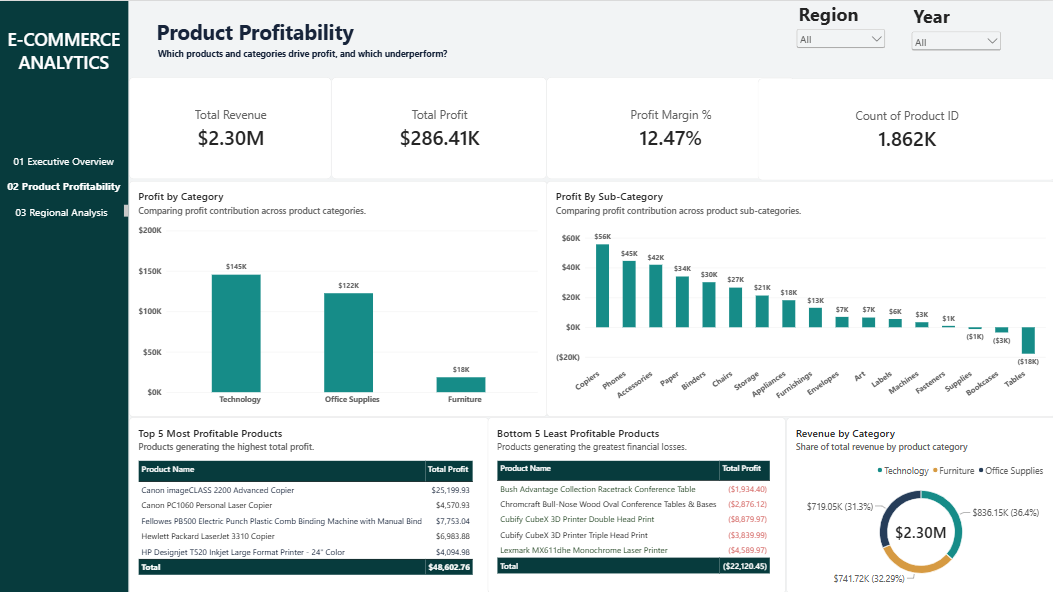

The dashboard page shown, as its layout file describes it:
{"tool":"powerbi","page":{"name":"Page 2","canvas":[1920,1080],"ordinal":1},"visuals":[{"type":"textbox","box":[0,0,235,1079.2],"z":0},{"type":"textbox","box":[0,47.9,235.4,114.6],"z":1000},{"type":"textbox","box":[0,277.1,235.4,31.2],"z":2000},{"type":"textbox","box":[0,322.9,235.4,31.2],"z":3000},{"type":"textbox","box":[0,370.8,235.4,22.9],"z":4000},{"type":"textbox","box":[266.7,16.7,1089.6,66.7],"z":5000},{"type":"textbox","box":[289.6,83.3,706.2,22.9],"z":6000},{"type":"slicer","fields":{"Values":["DateTable.Year"]},"box":[1654,4,172,106.2],"z":7000},{"type":"cardVisual","fields":{"Data":["Orders.Total Revenue"]},"box":[235.4,137.5,368.8,185.4],"z":9000},{"type":"cardVisual","fields":{"Data":["Orders.Total Profit"]},"box":[604.2,139.6,391.7,185.4],"z":10000},{"type":"cardVisual","fields":{"Data":["Orders.Profit Margin %"]},"box":[995.8,139.6,450,185.4],"z":11000},{"type":"cardVisual","fields":{"Data":["Count(Orders.Product ID)"]},"box":[1379.2,141.7,541.7,185.4],"z":12000},{"type":"columnChart","title":"Profit by Category","fields":{"Category":["Orders.Category"],"Y":["Orders.Total Profit"]},"box":[235.4,327.1,760.4,429.2],"z":13000},{"type":"columnChart","title":"Profit By Sub-Category","fields":{"Category":["Orders.Sub-Category"],"Y":["Orders.Total Profit"]},"box":[995.8,327.1,925,429.2],"z":14000},{"type":"tableEx","title":"Top 5 Most Profitable Products","fields":{"Values":["Orders.Product Name","Orders.Total Profit"]},"box":[235.4,756.2,654.2,322.9],"z":15000},{"type":"tableEx","title":"Bottom 5 Least Profitable Products","fields":{"Values":["Orders.Product Name","Orders.Total Profit"]},"box":[889.6,756.2,541.7,322.9],"z":16000},{"type":"donutChart","title":"Revenue by Category","fields":{"Category":["Orders.Category"],"Y":["Orders.Total Revenue"]},"box":[1431.2,756.2,489.6,323],"z":17000},{"type":"slicer","fields":{"Values":["Orders.Region"]},"box":[1445.8,0,170.8,120.8],"z":17001}]}

Visuals, with their boxes on the page's 1920x1080 design canvas (x1, y1, x2, y2). These are canvas units, not pixel positions in the 1053x592 screenshot, which may show the page scaled, cropped or inside an application window:
textbox: [left=0, top=0, right=235, bottom=1079]
textbox: [left=0, top=48, right=235, bottom=162]
textbox: [left=0, top=277, right=235, bottom=308]
textbox: [left=0, top=323, right=235, bottom=354]
textbox: [left=0, top=371, right=235, bottom=394]
textbox: [left=267, top=17, right=1356, bottom=83]
textbox: [left=290, top=83, right=996, bottom=106]
slicer - DateTable.Year: [left=1654, top=4, right=1826, bottom=110]
cardVisual - Orders.Total Revenue: [left=235, top=138, right=604, bottom=323]
cardVisual - Orders.Total Profit: [left=604, top=140, right=996, bottom=325]
cardVisual - Orders.Profit Margin %: [left=996, top=140, right=1446, bottom=325]
cardVisual - Count(Orders.Product ID): [left=1379, top=142, right=1921, bottom=327]
"Profit by Category" columnChart: [left=235, top=327, right=996, bottom=756]
"Profit By Sub-Category" columnChart: [left=996, top=327, right=1921, bottom=756]
"Top 5 Most Profitable Products" tableEx: [left=235, top=756, right=890, bottom=1079]
"Bottom 5 Least Profitable Products" tableEx: [left=890, top=756, right=1431, bottom=1079]
"Revenue by Category" donutChart: [left=1431, top=756, right=1921, bottom=1079]
slicer - Orders.Region: [left=1446, top=0, right=1617, bottom=121]
